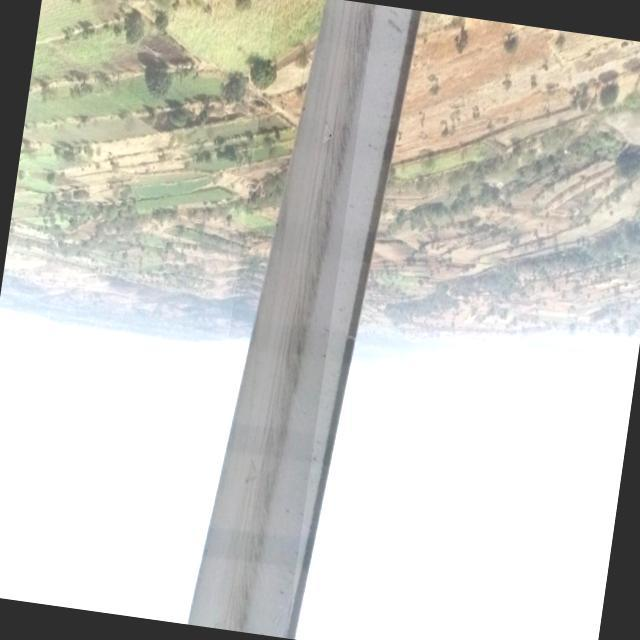Dirt: (187, 0, 421, 640)
